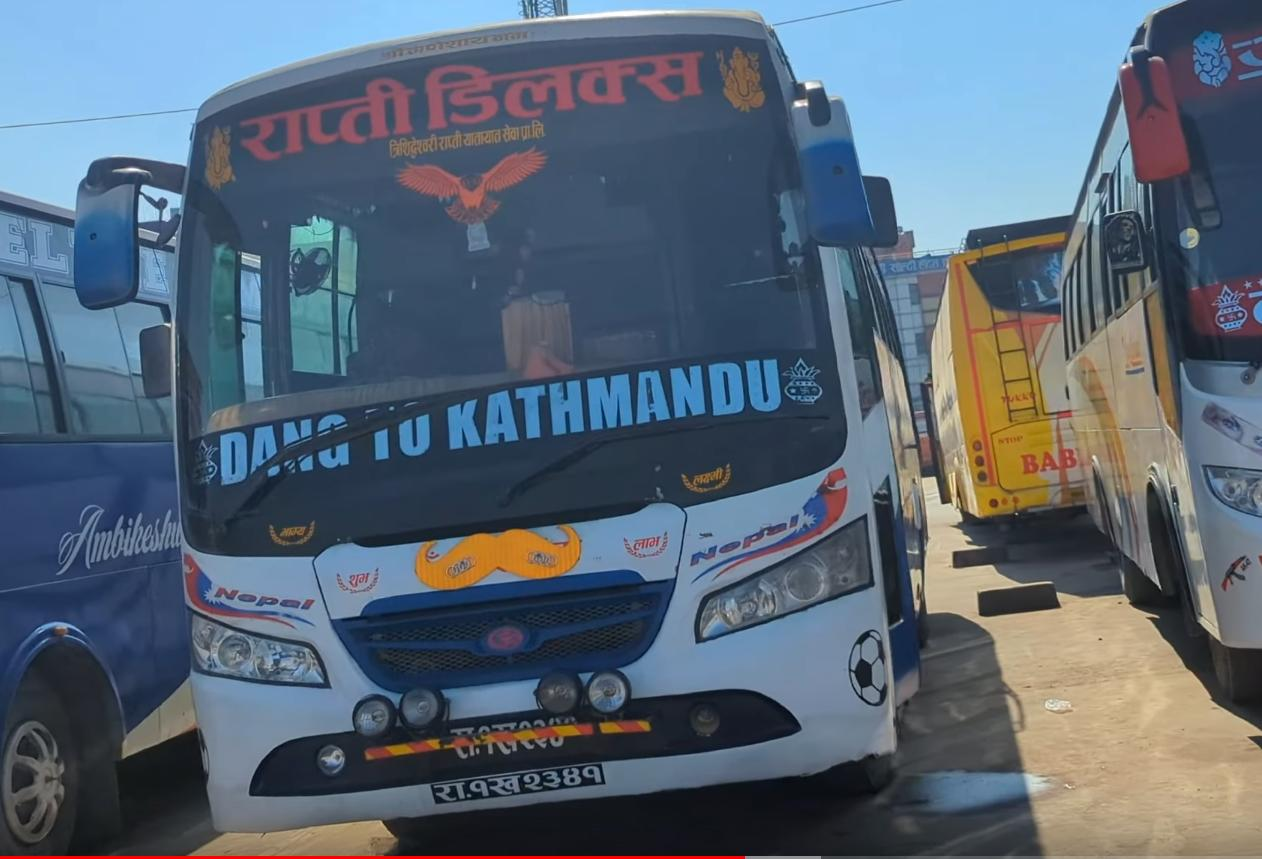bus: (76, 4, 943, 859), (1050, 0, 1262, 715)
